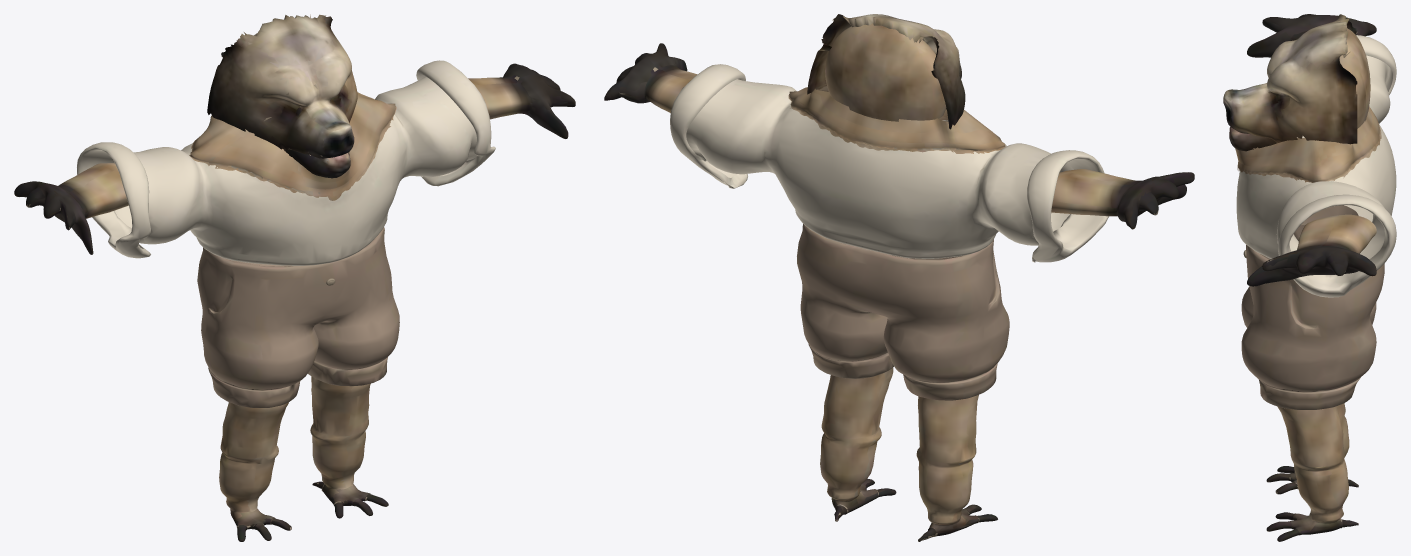
The model's file is bear_character.glb.
3 renders of one model, left to right at view 1: azimuth 30°, elevation 25°; view 2: azimuth 150°, elevation 25°; view 3: azimuth 270°, elevation 25°, orthographic. The views are drawn at different scales.
Parts seen in each view (by area): view 1: owl_jumper, owl_trousers, owl_head, owl_feet, owl_hands, owl_ruff; view 2: owl_jumper, owl_trousers, owl_feet, owl_head, owl_hands, owl_ruff; view 3: owl_trousers, owl_jumper, owl_head, owl_feet, owl_hands, owl_ruff.
Boxes of the visible parts, <box> form: owl_jumper: <box>77,60,495,265</box>; owl_trousers: <box>197,227,399,407</box>; owl_head: <box>207,14,357,178</box>; owl_feet: <box>219,376,388,541</box>; owl_hands: <box>14,63,575,254</box>; owl_ruff: <box>189,92,396,200</box>; owl_jumper: <box>670,64,1108,262</box>; owl_trousers: <box>797,224,1009,400</box>; owl_feet: <box>820,367,997,541</box>; owl_head: <box>807,14,965,129</box>; owl_hands: <box>604,43,1194,229</box>; owl_ruff: <box>788,83,1005,153</box>; owl_trousers: <box>1241,205,1384,409</box>; owl_jumper: <box>1236,35,1396,297</box>; owl_head: <box>1223,14,1370,151</box>; owl_feet: <box>1266,403,1358,541</box>; owl_hands: <box>1247,14,1376,286</box>; owl_ruff: <box>1235,106,1381,182</box>.
Size of the model in its own units: 1.1 by 0.9891 by 0.3248.
1 material, 1 textured.
